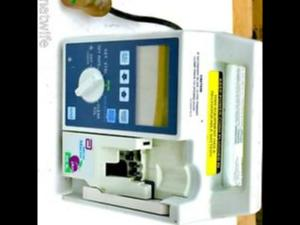plumxl1: (59, 31, 262, 217)
